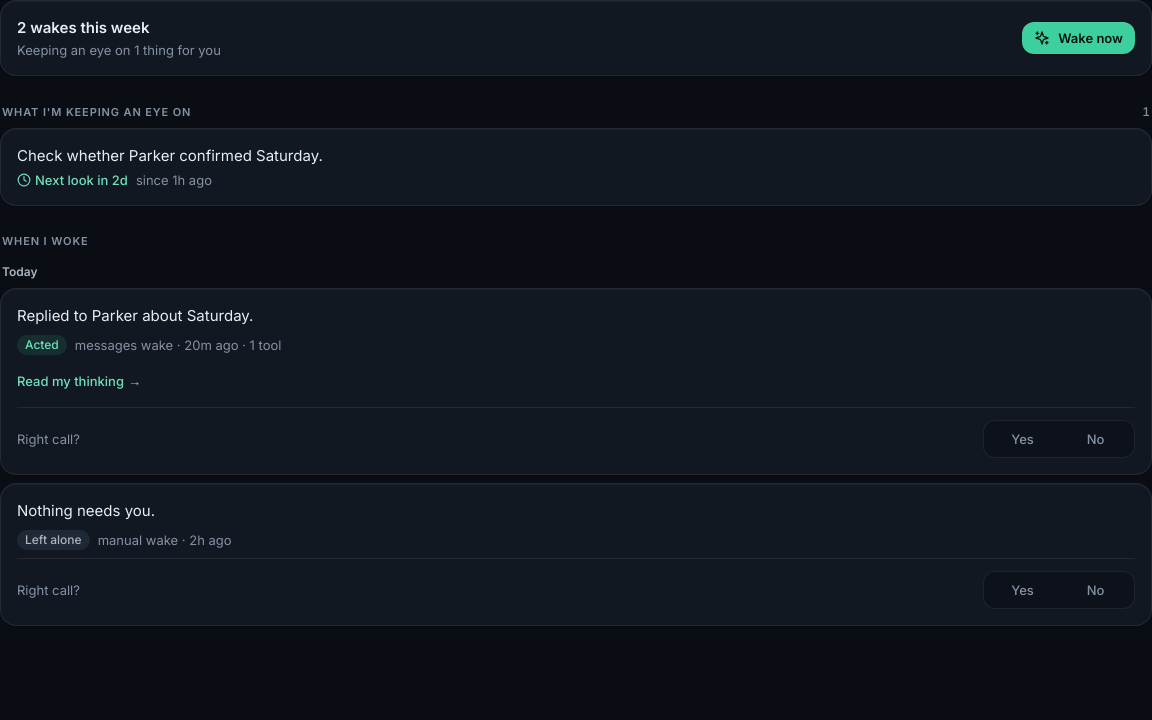
Test: MindPanel › wakes without blocking and waits for the new wake to land
This screenshot has width=1152, height=720.
Expected: the text "Replied to Parker about Saturday." is shown, [17, 306, 254, 325]
Click the button "Wake now".
click(1079, 38)  # box [1022, 22, 1135, 54]
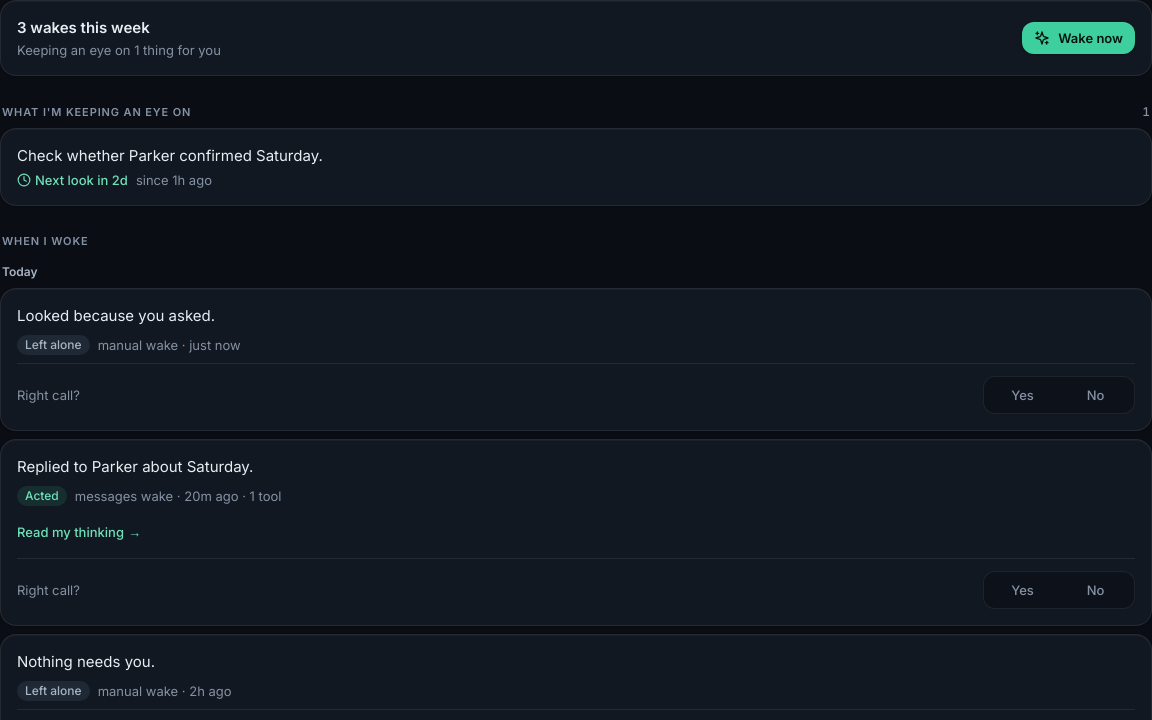
Result: the text "Looked because you asked." is shown at [17, 306, 215, 325]
